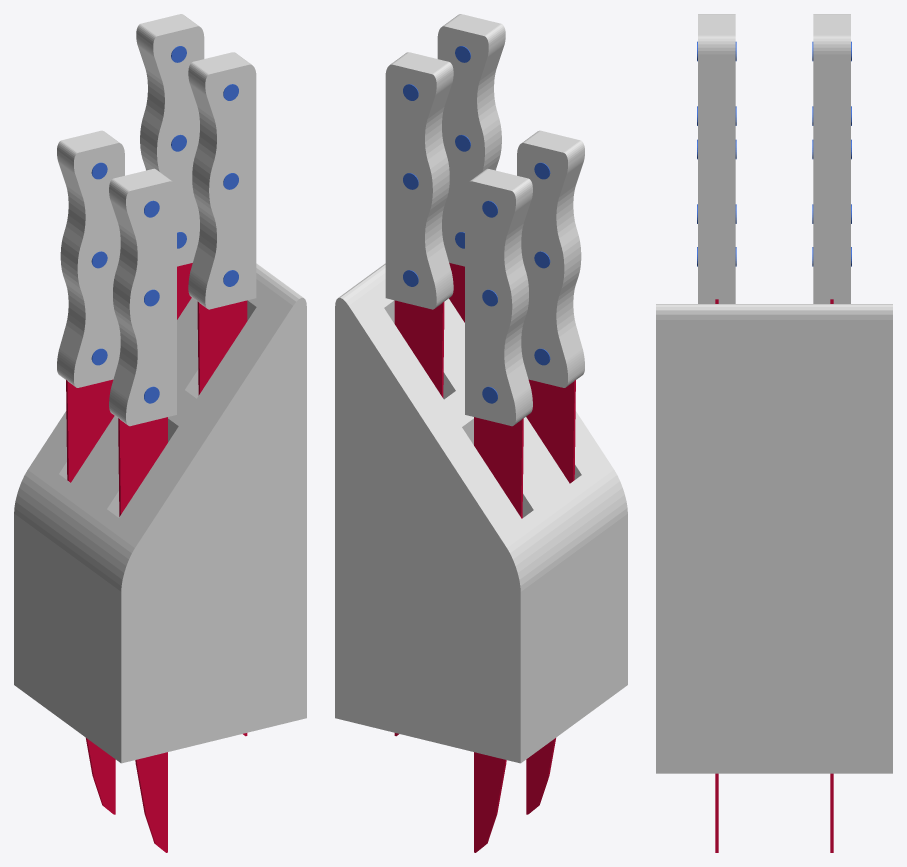
The model's file is KnifeRack.fbx.
3 views of the same model, side by side, from view 1: azimuth 30°, elevation 25°; view 2: azimuth 150°, elevation 25°; view 3: azimuth 270°, elevation 25° (orthographic). The views are drawn at different scales.
Parts seen in each view (by area): view 1: KnifeRack, Knife.003, Knife.004, Knife.002, Knife.001; view 2: KnifeRack, Knife.004, Knife.003, Knife.001, Knife.002; view 3: KnifeRack, Knife.002, Knife.001, Knife.004, Knife.003.
Part boxes in pixels (bbox=[...]): KnifeRack: bbox=[14, 263, 306, 763]; Knife.003: bbox=[109, 168, 176, 852]; Knife.004: bbox=[57, 130, 124, 814]; Knife.002: bbox=[188, 52, 256, 736]; Knife.001: bbox=[136, 14, 204, 319]; KnifeRack: bbox=[335, 263, 627, 763]; Knife.004: bbox=[465, 168, 532, 852]; Knife.003: bbox=[517, 130, 584, 814]; Knife.001: bbox=[385, 52, 453, 736]; Knife.002: bbox=[437, 14, 505, 322]; KnifeRack: bbox=[656, 304, 892, 773]; Knife.002: bbox=[697, 14, 736, 788]; Knife.001: bbox=[812, 14, 851, 788]; Knife.004: bbox=[812, 106, 851, 852]; Knife.003: bbox=[697, 106, 736, 852].
Size of the model in its own units: 388 by 1548 by 388.
